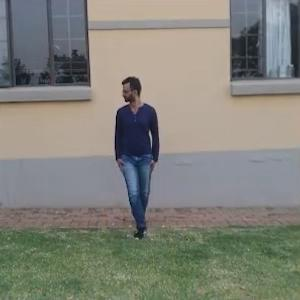follow: (113, 74, 161, 238)
